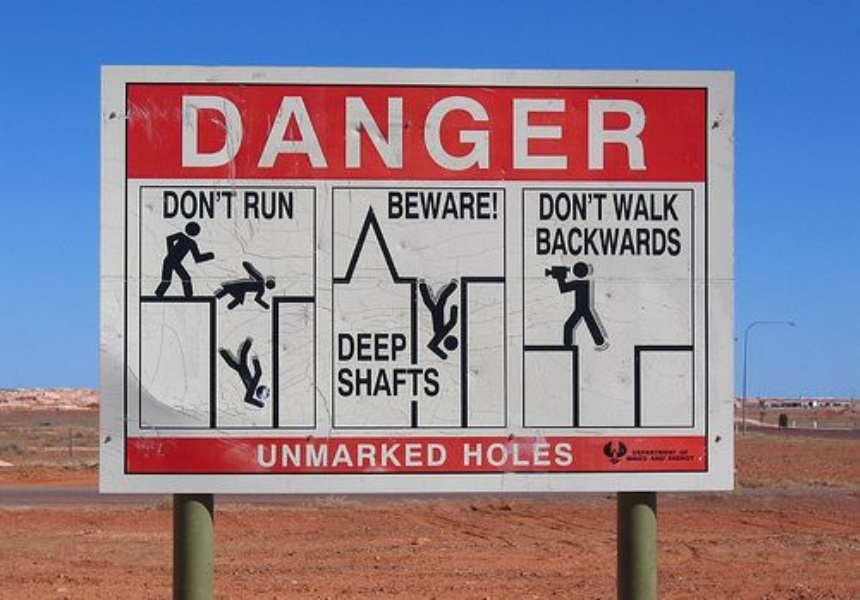text: (193, 93, 208, 171), (209, 93, 224, 171), (225, 93, 240, 171), (241, 93, 256, 171), (257, 93, 272, 171), (273, 93, 288, 171), (289, 93, 304, 171), (305, 93, 320, 171), (321, 93, 336, 171), (337, 93, 352, 171), (353, 93, 368, 171), (369, 93, 384, 171), (385, 93, 400, 171), (401, 93, 416, 171), (417, 93, 432, 171), (433, 93, 448, 171), (449, 93, 464, 171), (465, 93, 480, 171), (481, 93, 496, 171), (497, 93, 512, 171), (513, 93, 528, 171), (529, 93, 544, 171), (545, 93, 560, 171), (561, 93, 576, 171), (577, 93, 592, 171), (593, 93, 608, 171), (609, 93, 624, 171), (625, 93, 640, 171), (179, 93, 192, 171), (593, 191, 609, 222), (641, 93, 647, 171), (337, 367, 352, 398), (353, 367, 368, 398), (369, 367, 384, 398), (385, 367, 400, 398), (401, 367, 416, 398), (417, 367, 432, 398), (545, 191, 560, 222), (561, 191, 576, 222), (577, 191, 592, 222), (257, 190, 272, 221), (273, 190, 288, 221), (401, 190, 416, 221), (417, 190, 432, 221), (433, 190, 448, 221), (449, 190, 464, 221), (465, 190, 480, 221), (481, 190, 496, 221), (353, 332, 368, 363), (369, 332, 384, 363), (385, 332, 400, 363), (177, 190, 192, 221), (193, 190, 208, 221), (209, 190, 224, 221), (225, 190, 240, 221), (625, 191, 640, 221), (641, 191, 656, 221), (657, 191, 672, 221), (545, 227, 560, 257), (561, 227, 576, 257), (577, 227, 592, 257), (593, 227, 608, 257), (609, 227, 624, 257), (625, 227, 640, 257), (641, 227, 656, 257), (657, 227, 672, 257), (338, 332, 352, 363), (433, 442, 449, 468), (465, 441, 480, 468), (481, 441, 496, 468), (497, 441, 512, 468), (513, 441, 528, 468), (529, 441, 544, 468), (545, 441, 560, 468), (243, 190, 256, 221), (611, 191, 624, 221), (257, 442, 272, 468), (273, 442, 288, 468), (289, 442, 304, 468), (305, 442, 320, 468), (321, 442, 336, 468), (337, 442, 352, 468), (353, 442, 368, 468), (369, 442, 384, 468), (385, 442, 400, 468), (401, 442, 416, 468), (417, 442, 432, 468), (561, 441, 575, 468), (388, 190, 400, 221), (164, 190, 176, 221), (673, 227, 683, 257), (535, 227, 544, 257), (625, 446, 640, 463), (641, 446, 656, 463), (657, 446, 672, 463), (673, 446, 688, 463), (433, 367, 441, 398), (289, 190, 295, 221), (689, 446, 699, 463), (539, 191, 544, 222), (401, 332, 406, 363), (673, 191, 678, 221), (497, 190, 499, 221), (621, 446, 624, 463), (463, 441, 464, 468)
